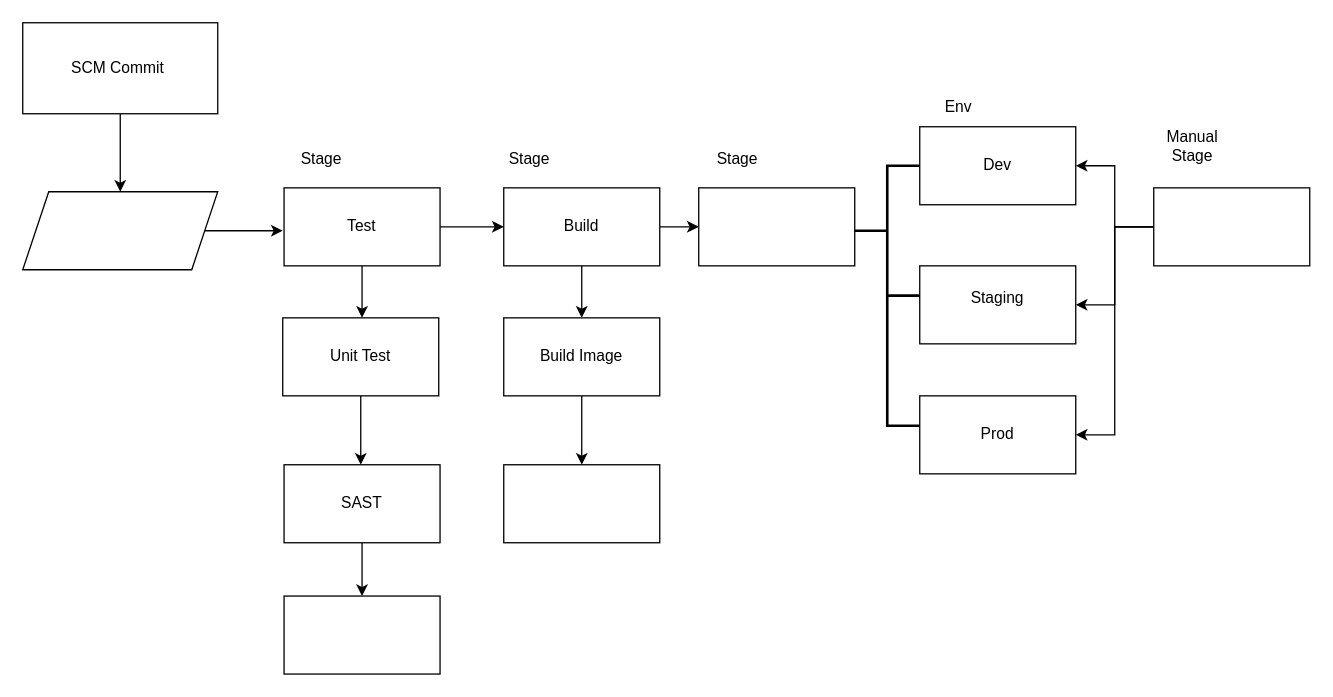
This 1333x697 diagram has some shape labels left out. The shapes that lost their labels are listed below. From the top down, each one's centre as x and y in pixels, then its label:
At pixel 119 230: "Repo& BranchName".
At pixel 776 226: "Deploy".
At pixel 1231 226: "Rollback".
At pixel 581 503: "Image Scanner".
At pixel 361 634: "Container Scan".
